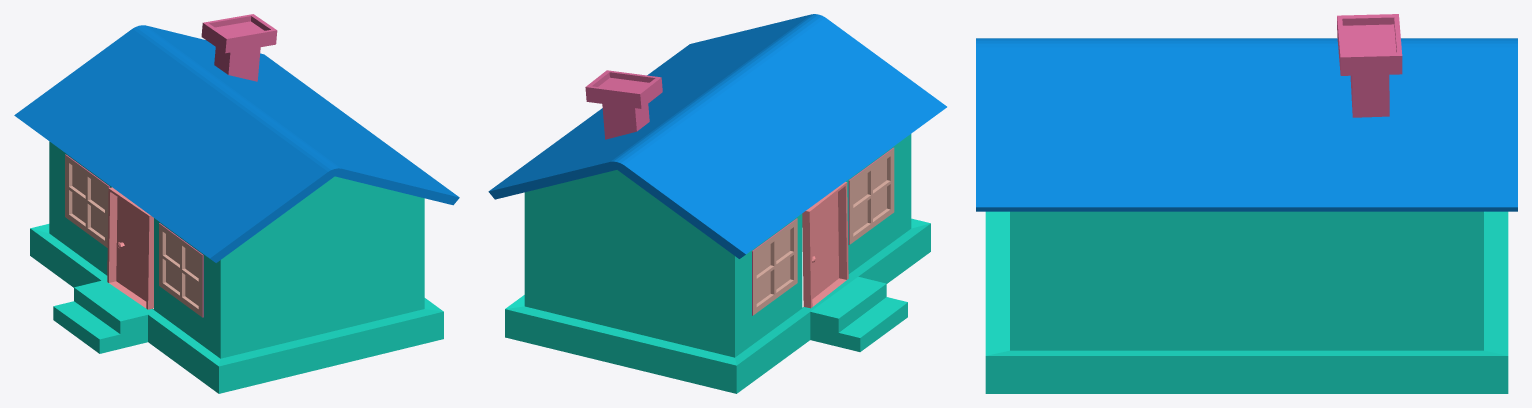
3 renders of one model, left to right at view 1: azimuth 30°, elevation 25°; view 2: azimuth 150°, elevation 25°; view 3: azimuth 270°, elevation 25°, orthographic. The views are drawn at different scales.
Visible parts, largest first — view 1: Cube, Roof, Window, Door, Chimney; view 2: Cube, Roof, Window, Door, Chimney; view 3: Cube, Roof, Chimney.
Boxes of the visible parts, <box> form: Cube: <box>30,141,443,393</box>; Roof: <box>14,25,459,262</box>; Window: <box>65,154,203,317</box>; Door: <box>107,187,153,309</box>; Chimney: <box>201,14,277,81</box>; Cube: <box>505,134,930,393</box>; Roof: <box>488,14,946,258</box>; Window: <box>752,147,894,315</box>; Door: <box>802,182,848,308</box>; Chimney: <box>585,70,662,139</box>; Cube: <box>985,211,1508,393</box>; Roof: <box>976,38,1517,211</box>; Chimney: <box>1337,14,1402,117</box>.
Bounding box in the file's own units: 2243 × 1720 × 2657.
